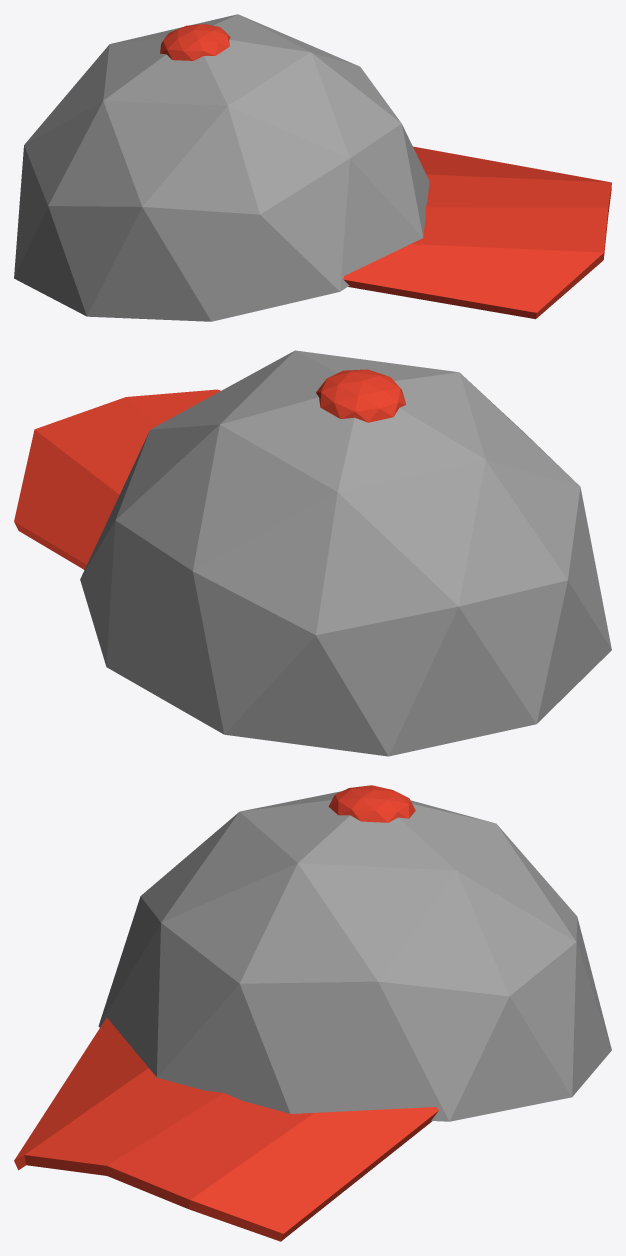
The model's file is 042820antHat.gltf.
3 renders of one model, top to bottom at view 1: azimuth 30°, elevation 25°; view 2: azimuth 150°, elevation 25°; view 3: azimuth 270°, elevation 25°, orthographic. The views are drawn at different scales.
Visible parts, largest first — view 1: Icosphere, Plane, Icosphere.001; view 2: Icosphere, Plane, Icosphere.001; view 3: Icosphere, Plane, Icosphere.001.
Part boxes in pixels (x1,y1,x2,y2): Icosphere: (14, 14, 429, 321); Plane: (343, 146, 611, 319); Icosphere.001: (160, 24, 230, 60); Icosphere: (80, 350, 611, 756); Plane: (14, 389, 220, 569); Icosphere.001: (316, 369, 406, 422); Icosphere: (98, 791, 611, 1121); Plane: (14, 1018, 438, 1241); Icosphere.001: (328, 785, 415, 822).
Bounding box in the file's own units: 2.93 × 1.27 × 2.55.
